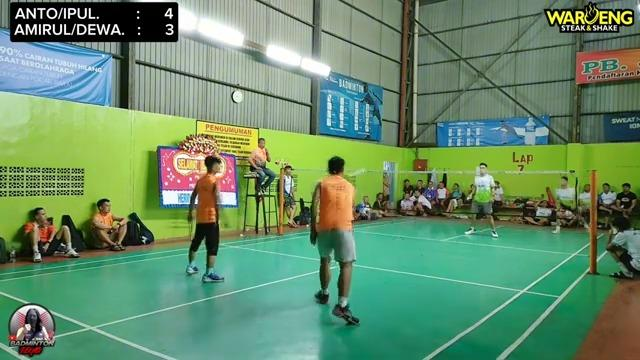Shuttlecock: (348, 166, 370, 180)
